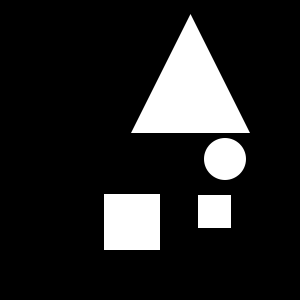circle: (104, 194, 160, 250), (198, 195, 231, 228)
rectangle: (204, 138, 246, 180)
triangle: (131, 14, 250, 133)
